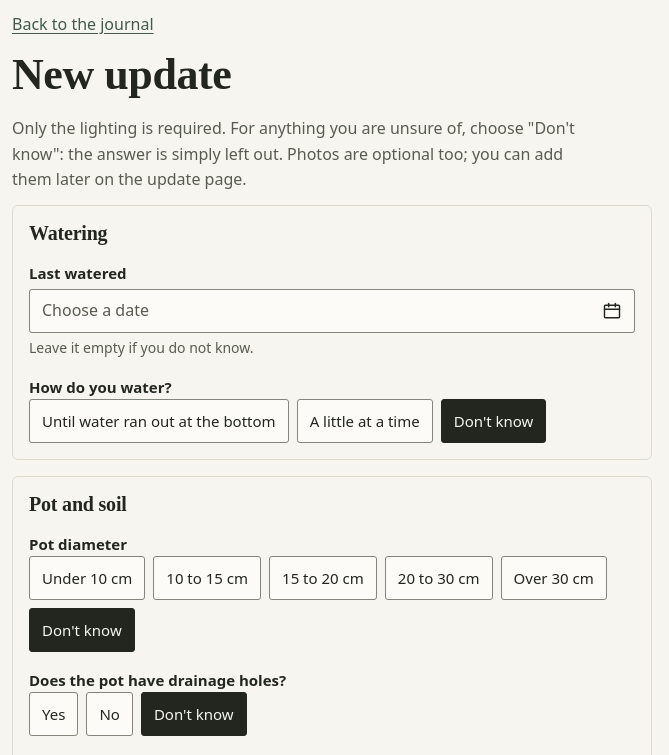
Test: NewUpdatePage › explains that partial watering is not counted
Check: the text "not counted when the watering interval" is not shown
Click the radio button labelled "A little at a time".
click(365, 421)  # box [297, 399, 433, 443]
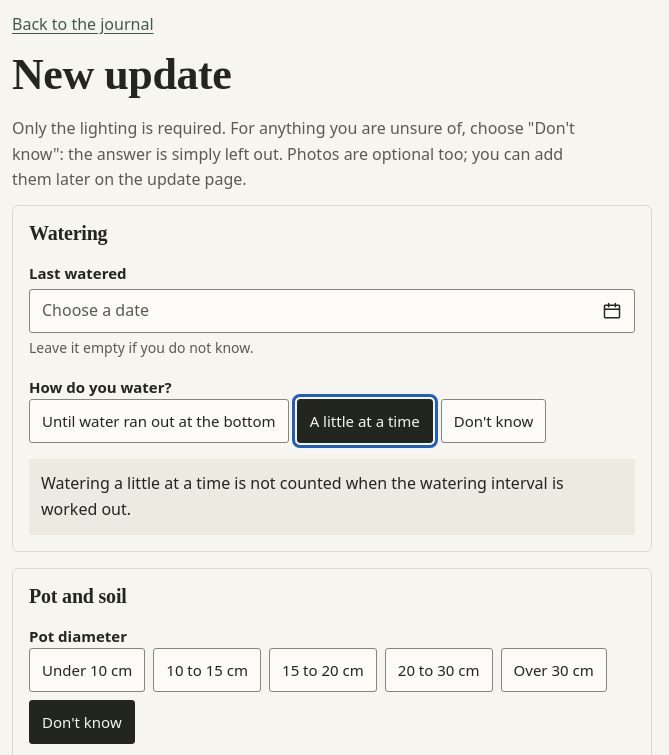
Check: the text "not counted when the watering interval" is shown, box [41, 472, 564, 520]
